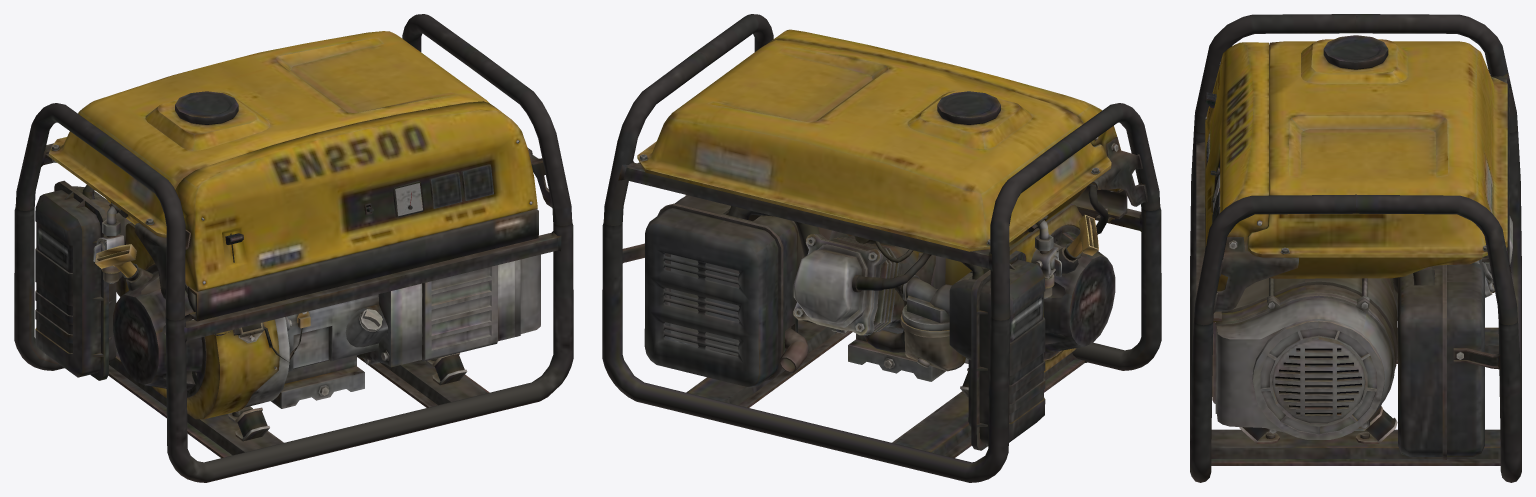
File: portable_generator.glb
3 renders of one model, left to right at view 1: azimuth 30°, elevation 25°; view 2: azimuth 150°, elevation 25°; view 3: azimuth 270°, elevation 25°, orthographic.
Visible parts, largest first — view 1: portable_generator; view 2: portable_generator; view 3: portable_generator.
Part boxes in pixels (x1,y1,x2,y2): portable_generator: (14, 14, 573, 482); portable_generator: (602, 14, 1161, 482); portable_generator: (1190, 14, 1521, 482).
Bounding box in the file's own units: 0.8169 × 0.5752 × 0.564.
2 materials, 2 textured.
